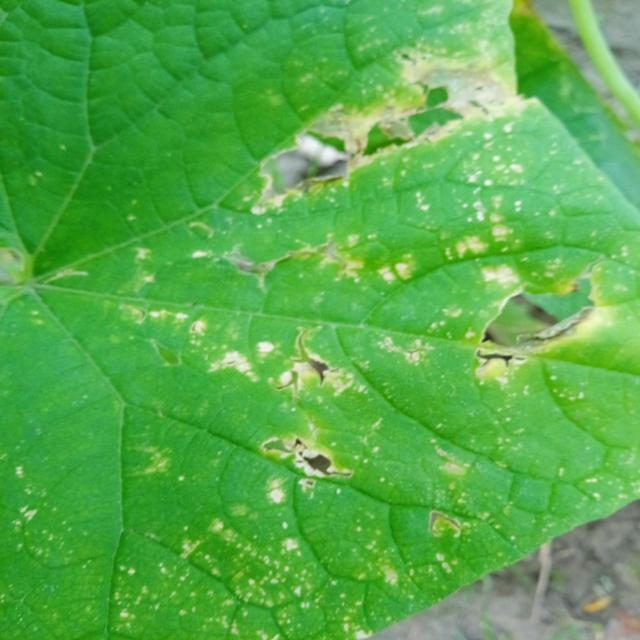cucumber_anthracnose: (1, 34, 613, 584)
